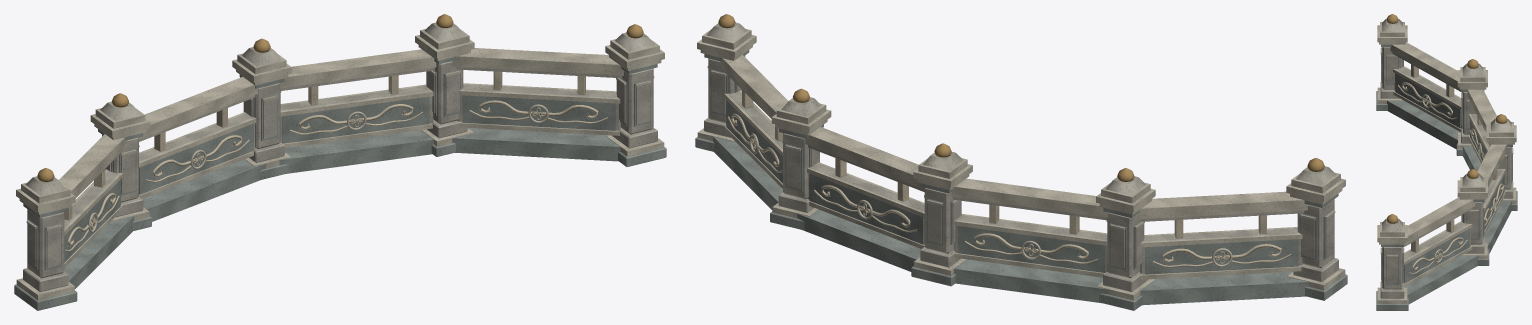
The picture shows the model from 3 angles, left to right: view 1: azimuth 30°, elevation 25°; view 2: azimuth 150°, elevation 25°; view 3: azimuth 270°, elevation 25°; orthographic projection. The views are drawn at different scales.
Parts seen in each view (by area): view 1: D02_cool, D02_light, D02_stone, D02_relief, D02_motif; view 2: D02_cool, D02_light, D02_stone, D02_relief, D02_motif; view 3: D02_light, D02_cool, D02_stone, D02_relief, D02_motif.
Part boxes in pixels (x1,y1,x2,y2): D02_cool: [14, 56, 666, 310]; D02_light: [16, 29, 664, 300]; D02_stone: [23, 22, 657, 291]; D02_relief: [64, 71, 608, 251]; D02_motif: [37, 14, 643, 181]; D02_cool: [695, 50, 1347, 310]; D02_light: [697, 29, 1345, 300]; D02_stone: [704, 22, 1338, 291]; D02_relief: [727, 90, 1291, 267]; D02_motif: [718, 14, 1324, 181]; D02_light: [1377, 22, 1516, 303]; D02_cool: [1376, 44, 1517, 310]; D02_stone: [1380, 18, 1513, 298]; D02_relief: [1398, 64, 1504, 274]; D02_motif: [1386, 14, 1507, 223].
Bounding box in the file's own units: 6.83 × 1.35 × 1.91.
5 materials, 4 textured.
